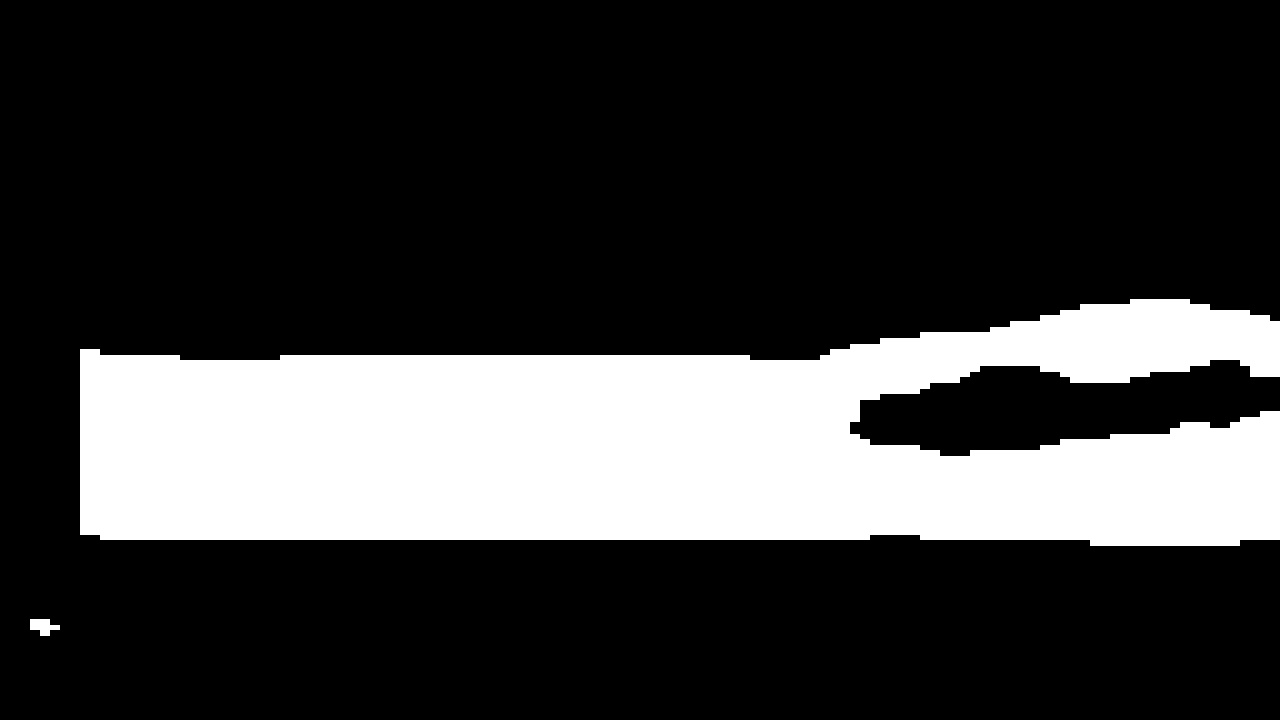Turbine: (68, 275, 1271, 556)
